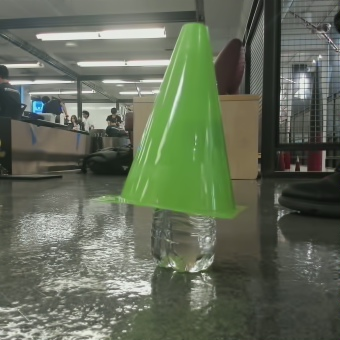Cone: (146, 14, 261, 199)
